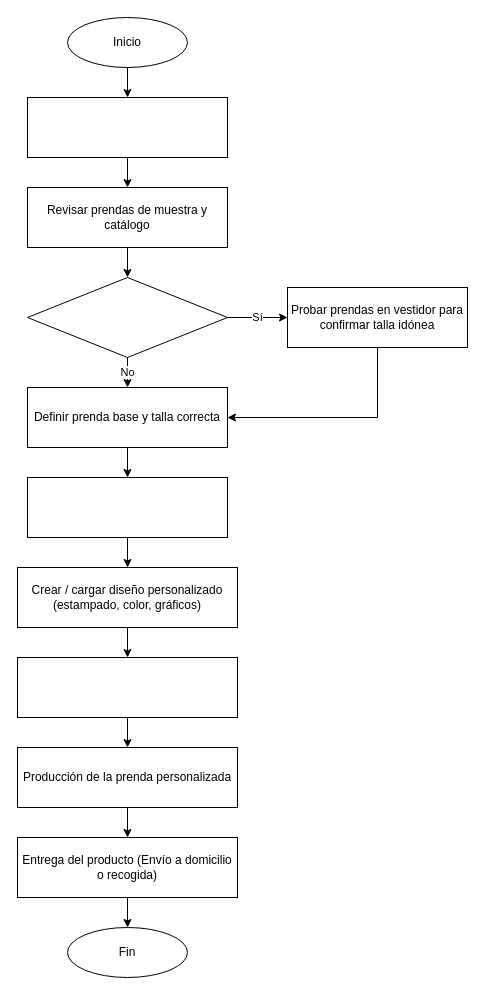
Image size: 485x995. Some labels were removed from this diagram. Here are the shapes that lost their labels. From the top down, the box of each, then its label:
(26, 96, 228, 158): Cliente entra al local
(26, 276, 228, 358): ¿Desea probarse las prendas?
(26, 476, 228, 538): Acceder a la plataforma / terminal en línea
(16, 656, 238, 718): Confirmar diseño, talla elegida y realizar pago
